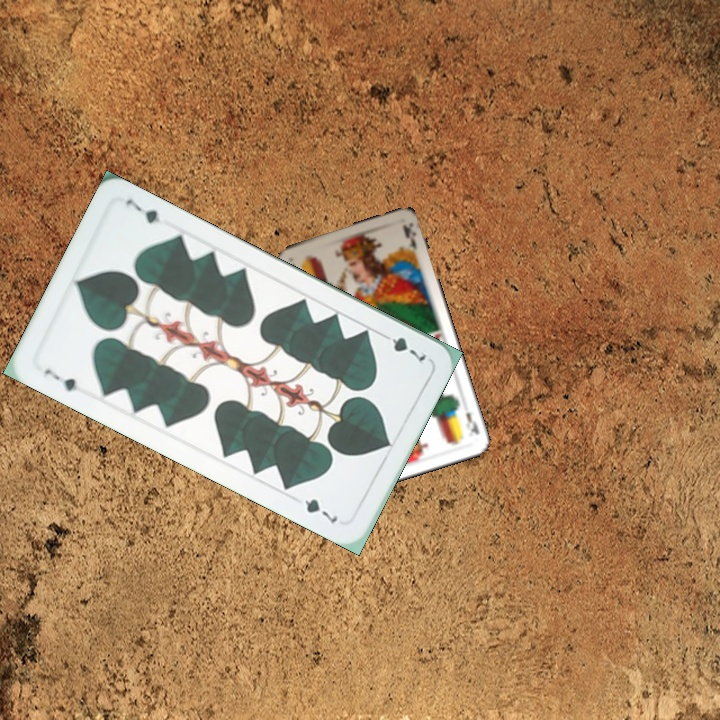EK: (462, 408, 482, 439)
G7: (376, 328, 431, 364), (40, 365, 80, 394)
